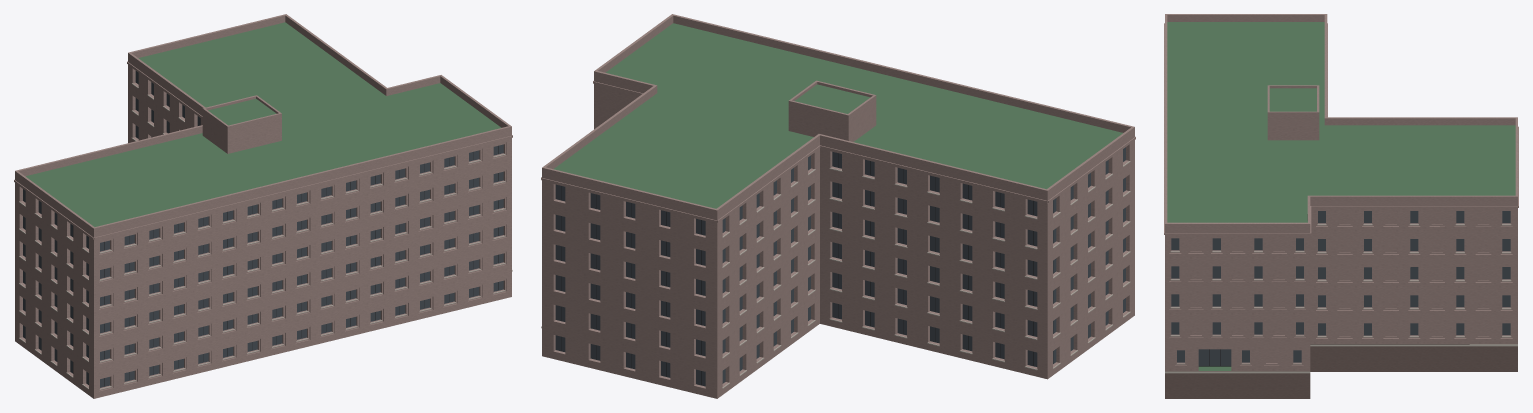
3 views of the same model, side by side, from view 1: azimuth 30°, elevation 25°; view 2: azimuth 150°, elevation 25°; view 3: azimuth 270°, elevation 25° (orthographic). The views are drawn at different scales.
Parts seen in each view (by area): view 1: dasan__wall, dasan__roof, dasan__glass, dasan__trim, dasan__frame; view 2: dasan__wall, dasan__roof, dasan__glass, dasan__trim, dasan__frame; view 3: dasan__wall, dasan__roof, dasan__plinth, dasan__glass, dasan__trim.
Boxes of the visible parts, x1,y1,x2,y2 form: dasan__wall: (14,14,512,398); dasan__roof: (26,22,501,226); dasan__glass: (23,71,503,387); dasan__trim: (19,83,512,389); dasan__frame: (73,95,498,386); dasan__wall: (541,14,1135,398); dasan__roof: (553,23,1122,208); dasan__glass: (555,147,1125,386); dasan__trim: (541,161,1130,388); dasan__frame: (561,153,1053,385); dasan__wall: (1164,14,1518,370); dasan__roof: (1167,22,1515,370); dasan__plinth: (1165,344,1517,398); dasan__glass: (1171,211,1510,365); dasan__trim: (1165,224,1517,373).
Bounding box in the file's own units: 58.02 × 25.2 × 41.33.
Materials: 6 (2 with a texture image).
